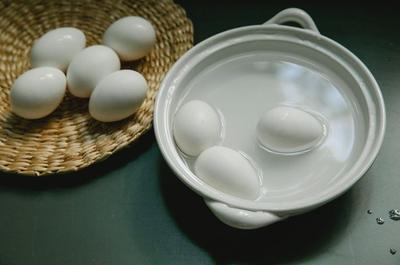Telur: (190, 139, 257, 215), (246, 109, 333, 156), (88, 64, 149, 128), (157, 99, 226, 155), (49, 43, 108, 105), (86, 14, 157, 64), (5, 73, 66, 125), (28, 22, 78, 63)
